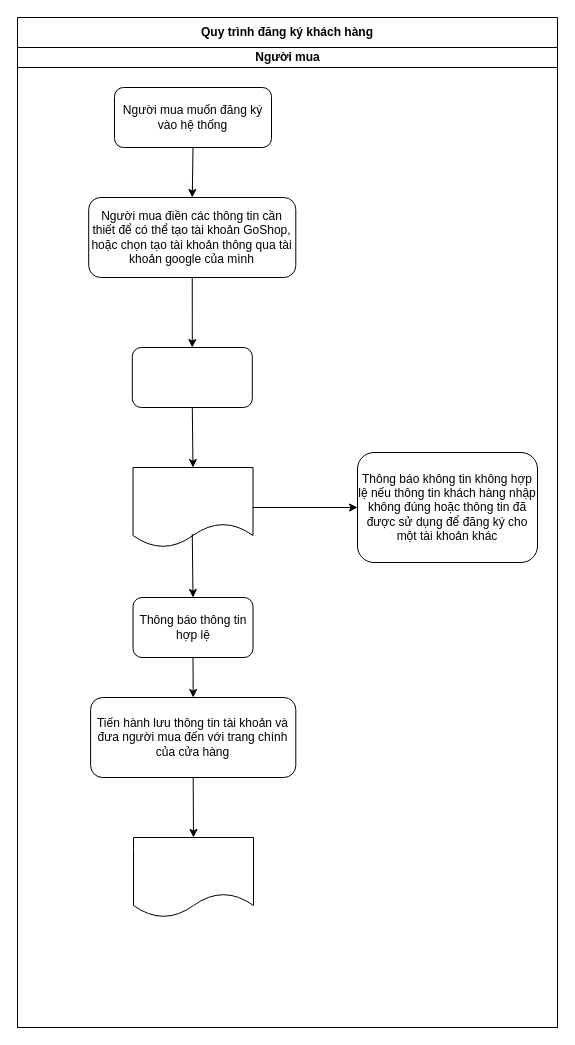
Some shapes in this 575 by 1045 pixel diagram are drawn without their labels. Each missing label, with the centre of its shape:
Kiểm tra thông tin người mua đùng để đăng ký đã được sử dụng chưa: the point at 191,377
Tài khoản Trạng thái: Kiểm tra thông tin: the point at 192,507
Tài Khoản Trạng thái: Đã khởi tạo: the point at 193,877
